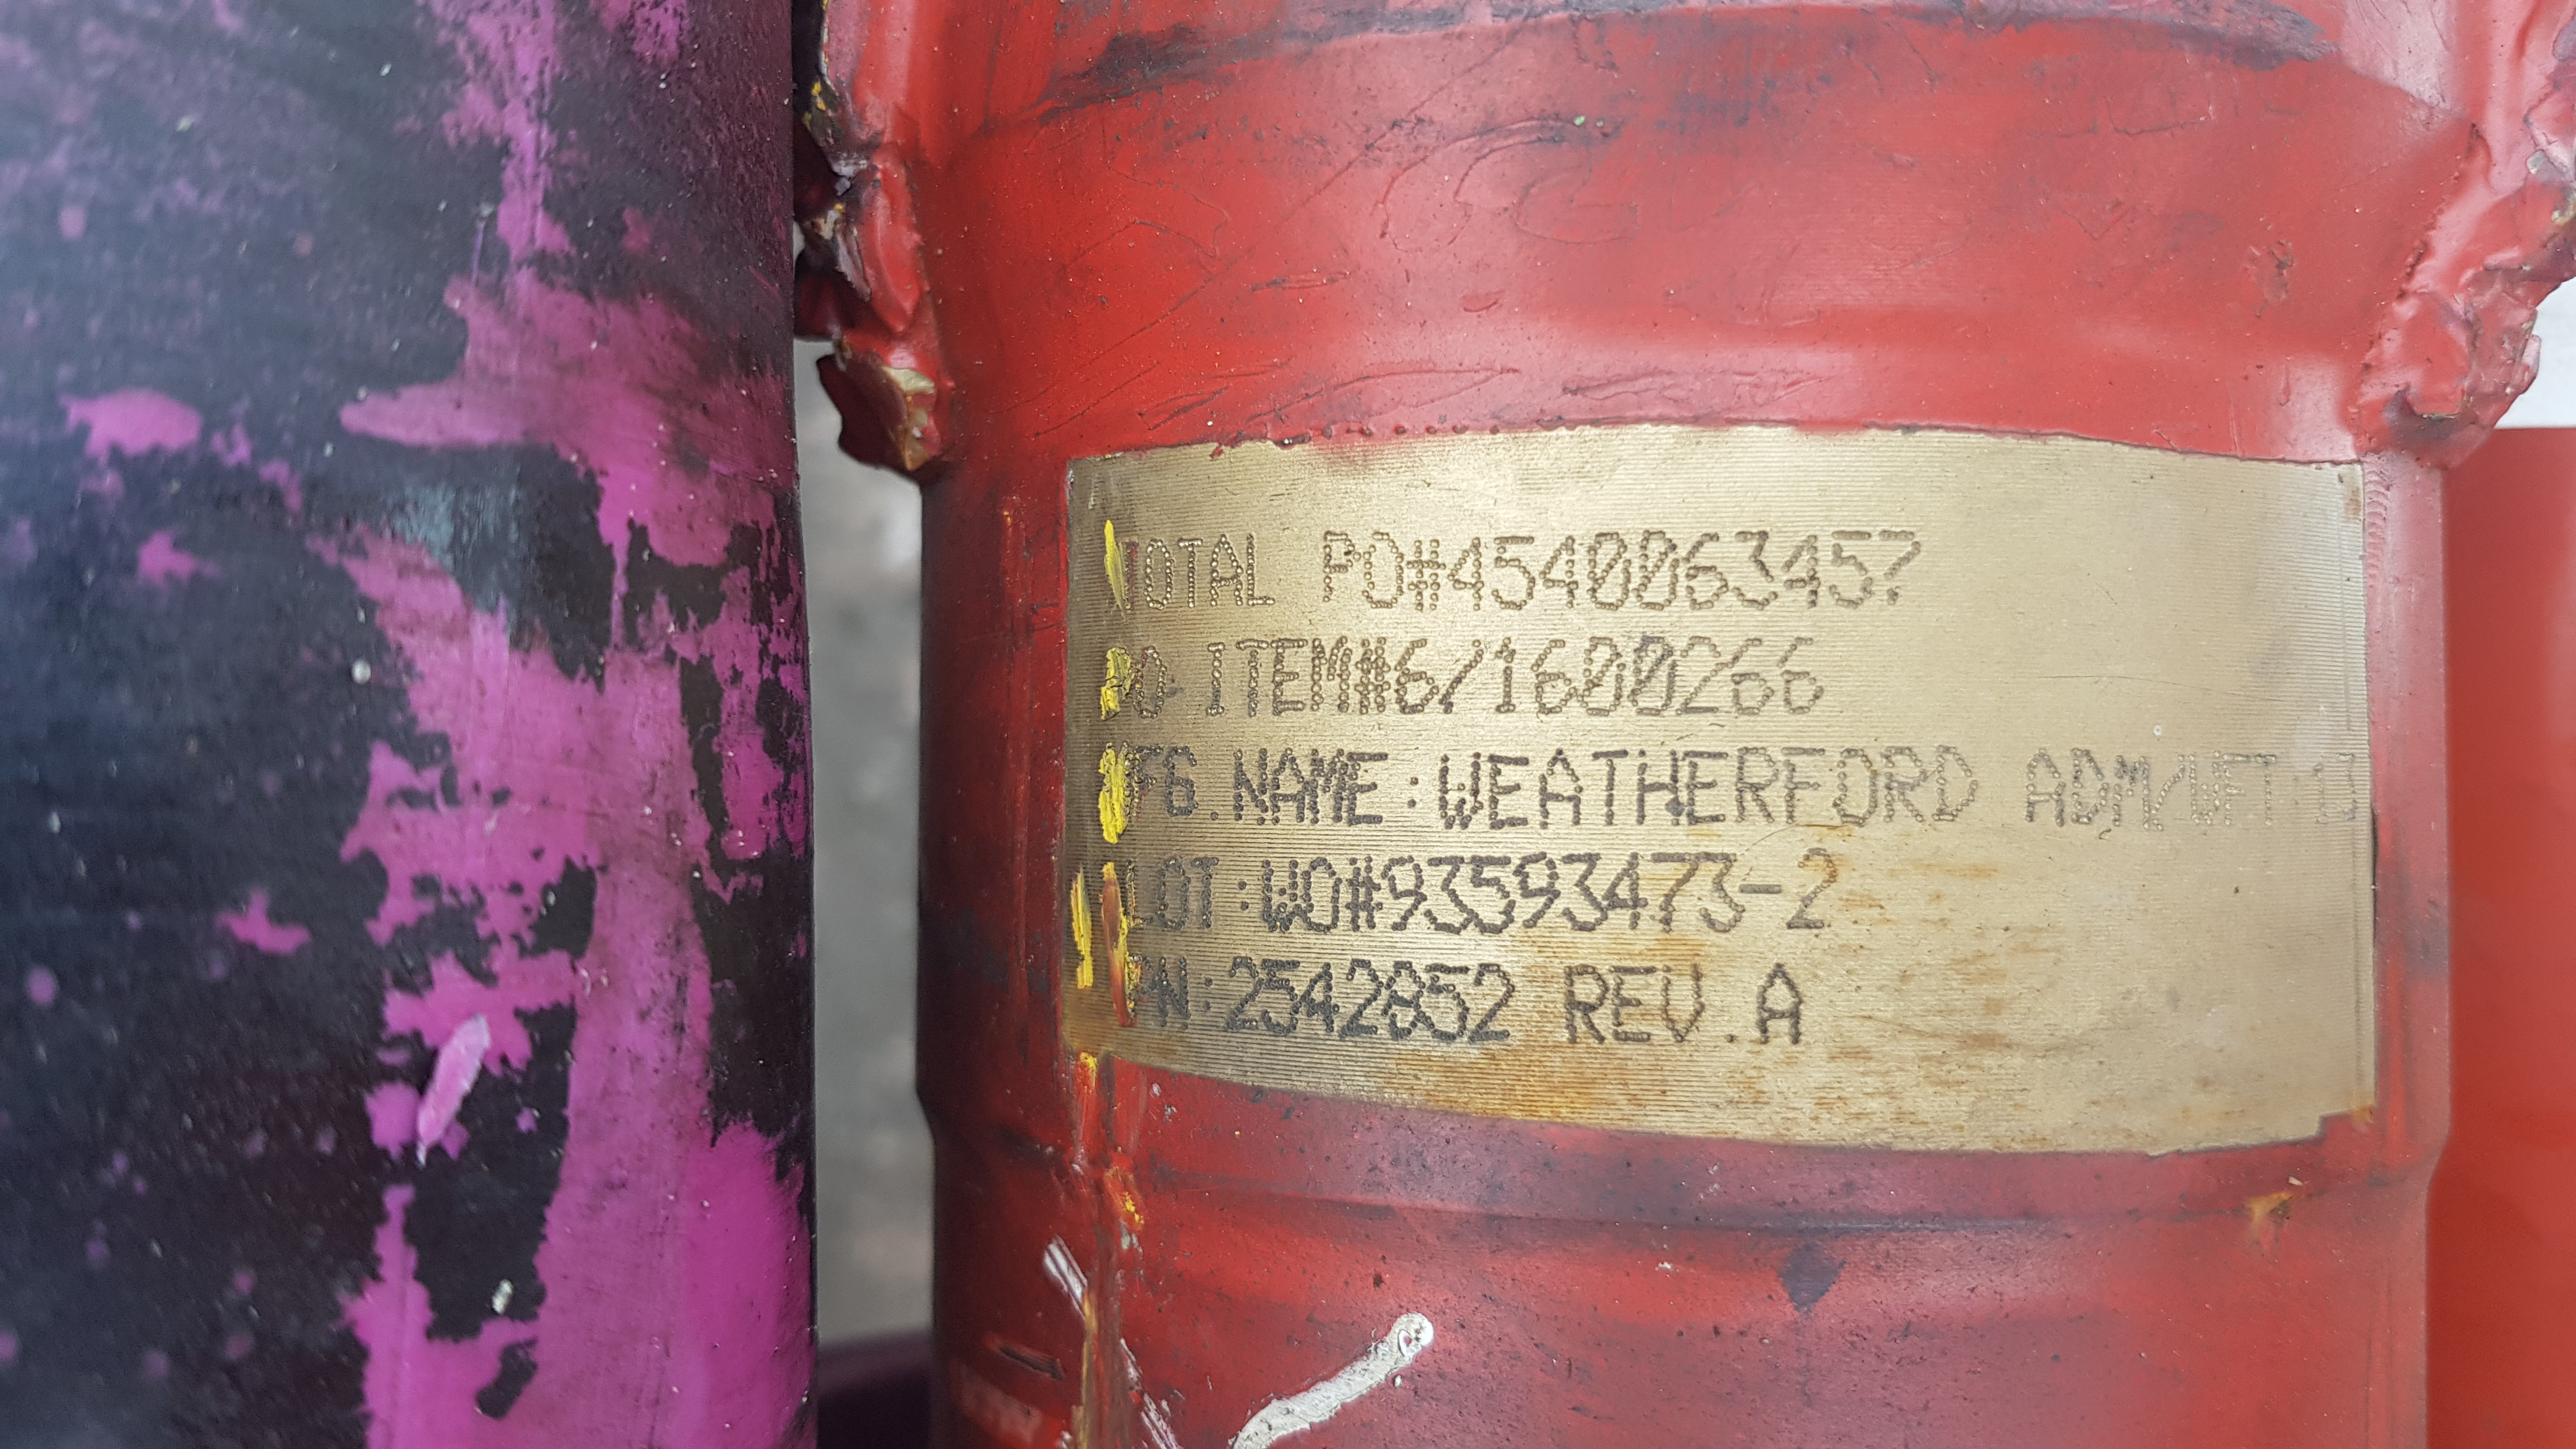character: (1750, 959, 1808, 1049), (1877, 741, 1934, 830), (1785, 842, 1840, 932), (1629, 745, 1684, 833), (1484, 531, 1541, 616), (1532, 743, 1587, 830), (2019, 741, 2070, 832), (1727, 529, 1780, 616), (1624, 632, 1675, 720), (1651, 844, 1702, 932), (1557, 961, 1610, 1046), (1583, 527, 1633, 617), (1608, 961, 1660, 1047), (1679, 524, 1729, 612), (1683, 741, 1732, 830), (1424, 959, 1474, 1047), (1828, 527, 1879, 610), (1674, 635, 1725, 718), (1725, 635, 1776, 718), (1697, 846, 1743, 938), (1831, 747, 1879, 835), (1780, 743, 1829, 828), (1656, 962, 1706, 1047), (1527, 635, 1578, 717), (1559, 842, 1605, 932), (1307, 633, 1355, 720), (1392, 635, 1440, 722), (1932, 743, 1980, 830), (1468, 849, 1516, 936), (1776, 633, 1828, 713), (1633, 525, 1681, 610), (1589, 743, 1633, 833), (1362, 527, 1408, 612), (1486, 748, 1532, 833), (2065, 745, 2111, 830), (1437, 642, 1488, 718), (1345, 747, 1392, 828), (1468, 962, 1516, 1044), (1778, 531, 1828, 609), (1580, 635, 1624, 722), (1341, 955, 1384, 1046), (1256, 853, 1302, 936), (1380, 855, 1428, 934), (1603, 849, 1651, 929), (1736, 741, 1778, 830), (2112, 747, 2157, 832), (1426, 853, 1470, 938), (1539, 533, 1585, 614), (1224, 745, 1270, 826), (1514, 851, 1562, 929), (1221, 952, 1265, 1035), (1877, 525, 1923, 605), (1267, 633, 1309, 718), (1304, 747, 1346, 830), (1299, 855, 1341, 938), (1129, 646, 1175, 722), (1155, 952, 1201, 1028), (1258, 955, 1300, 1037), (1405, 536, 1449, 612), (1157, 745, 1203, 817), (2185, 747, 2226, 828), (1233, 635, 1272, 720), (1270, 745, 1309, 830), (1437, 752, 1479, 830), (1318, 529, 1362, 603), (2219, 752, 2259, 832), (1300, 964, 1343, 1040), (1449, 536, 1490, 614), (1355, 635, 1394, 715), (1341, 855, 1382, 931), (1118, 851, 1155, 934), (1155, 856, 1194, 934), (1384, 957, 1421, 1039), (1127, 740, 1166, 816), (1108, 533, 1145, 612), (1240, 533, 1281, 605), (1205, 534, 1244, 605), (2300, 752, 2335, 830), (1118, 950, 1155, 1023), (2256, 748, 2284, 842), (1191, 849, 1223, 932), (1141, 536, 1177, 610), (1201, 639, 1233, 720), (1490, 635, 1522, 715), (1178, 534, 1207, 614), (2337, 750, 2364, 826), (2153, 768, 2187, 826), (1739, 869, 1787, 904), (1233, 872, 1251, 913), (1200, 973, 1215, 1017), (1403, 773, 1422, 809)
